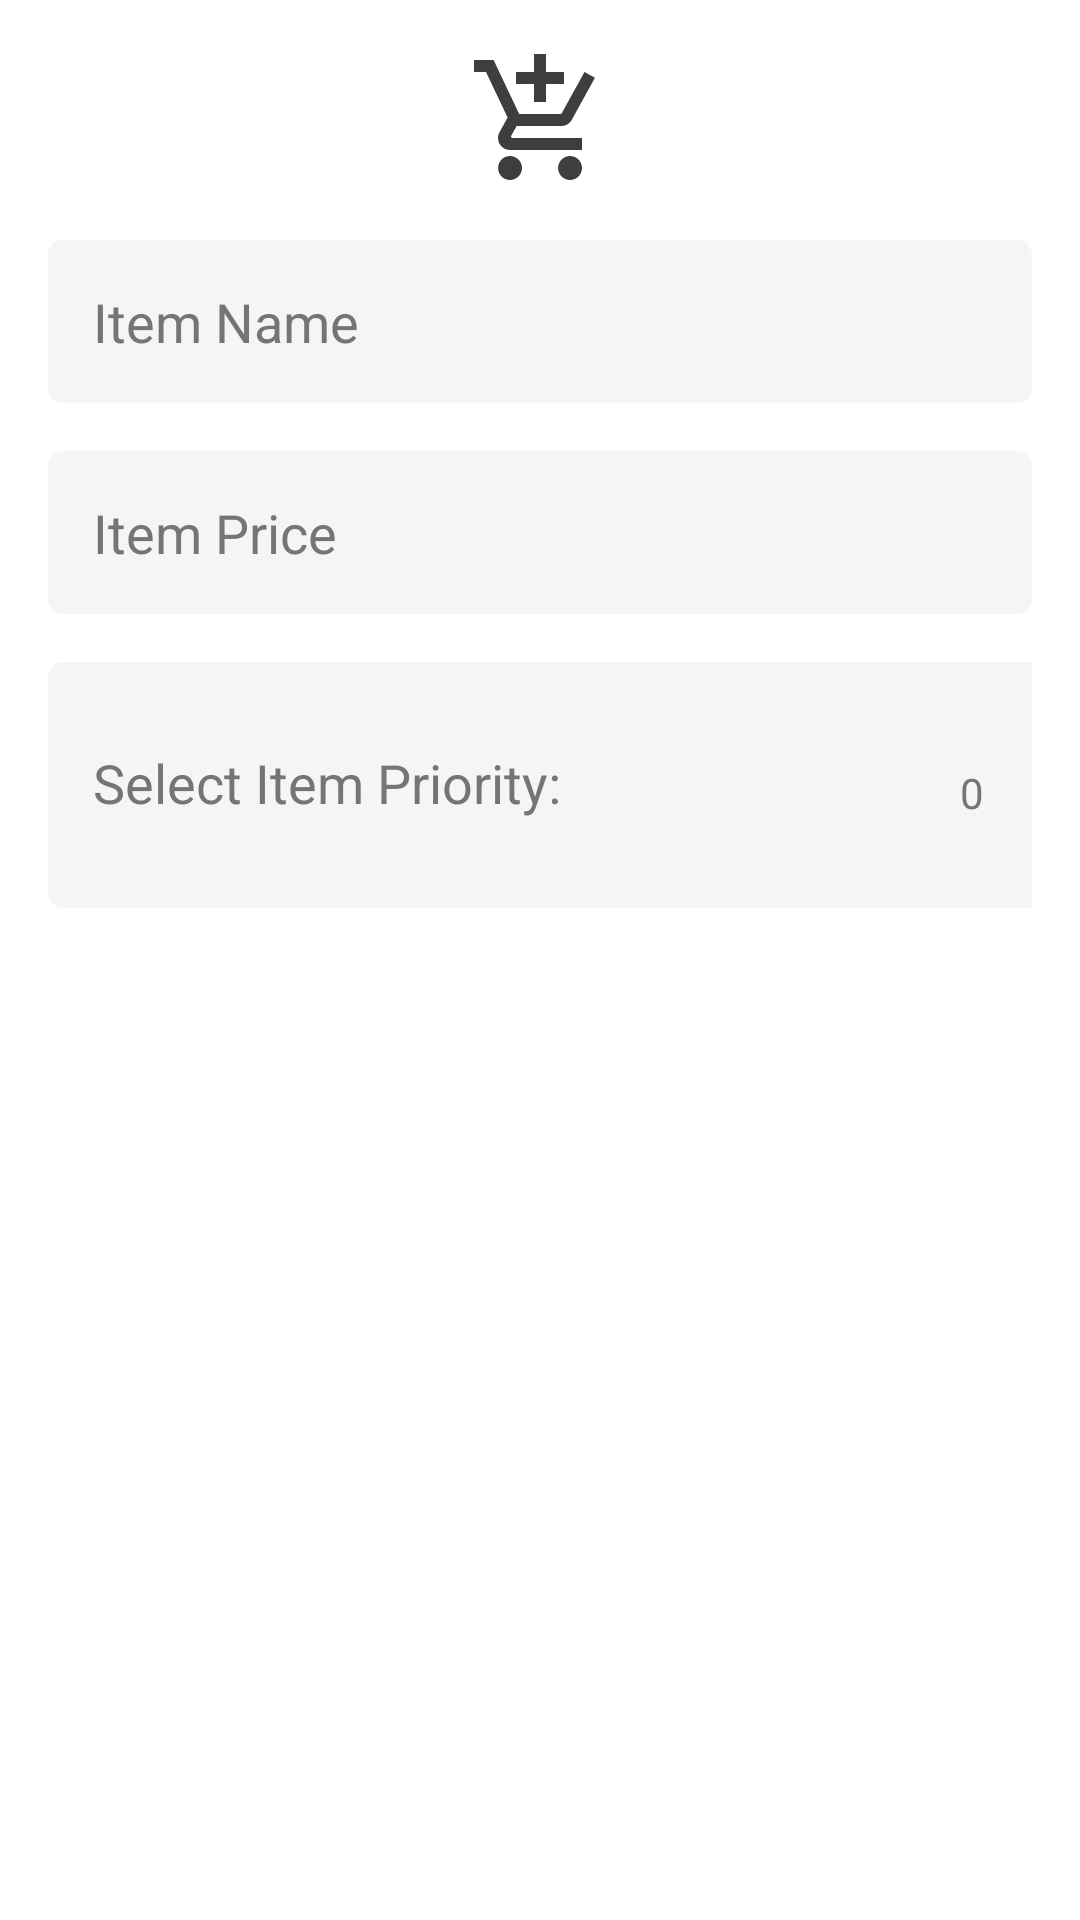

Icons on this 1080w x 1920h Android screen, each with its box as (x1, y1, x2, y2):
add shopping cart: (474, 54, 595, 180)
